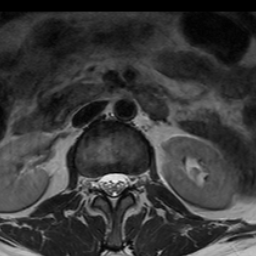CCS_normal: (107, 165, 118, 214)
LFS_normal: (128, 168, 138, 193)
LLS_normal: (118, 165, 128, 199)
RFS_normal: (86, 169, 97, 197)
RLS_normal: (97, 167, 108, 197)
